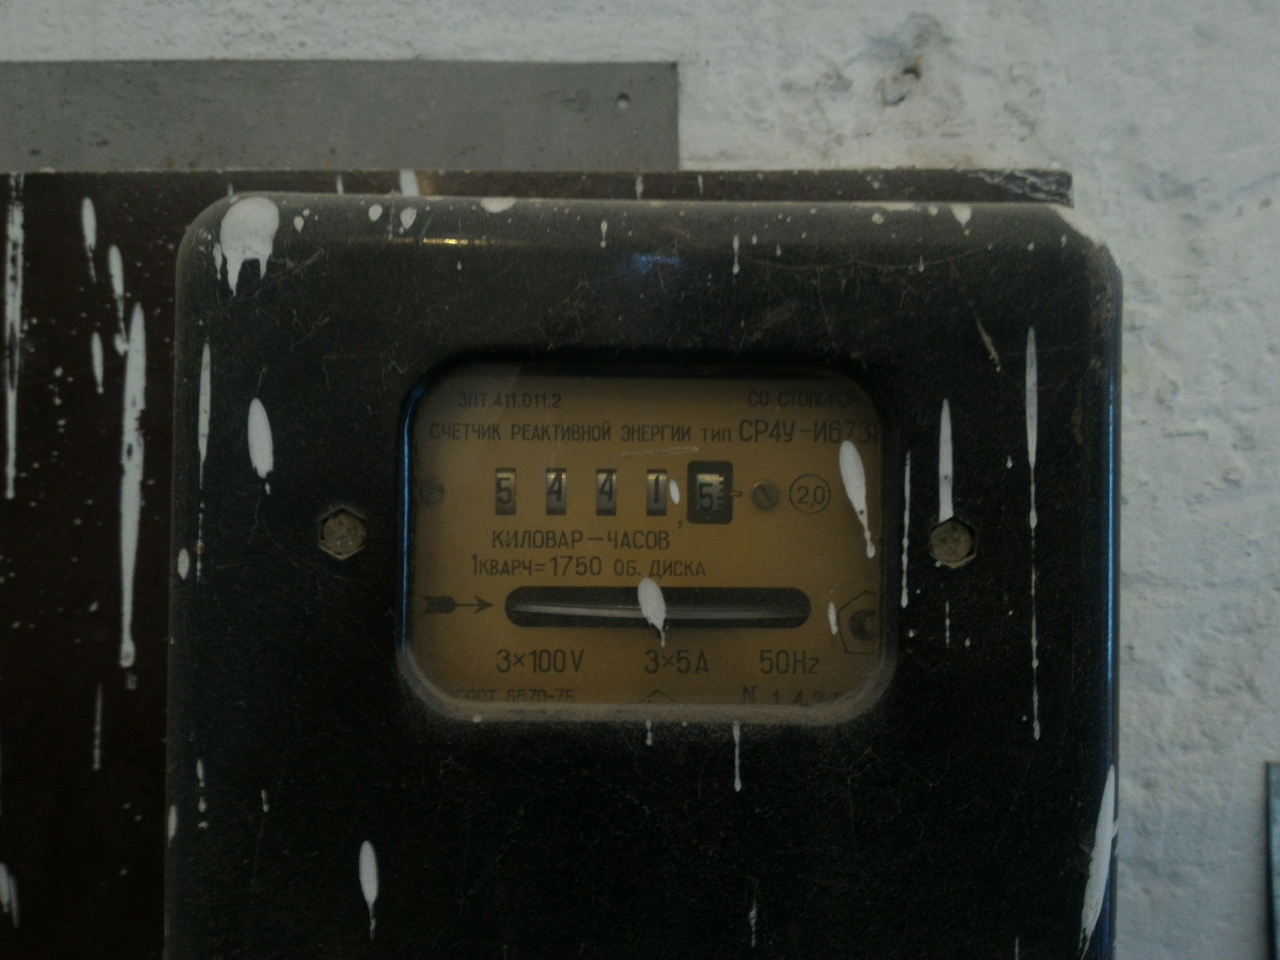1: (647, 472, 666, 506)
4: (594, 469, 616, 504), (545, 469, 565, 504)
5: (695, 478, 717, 517), (496, 474, 514, 507)
screen: (472, 451, 749, 533)
